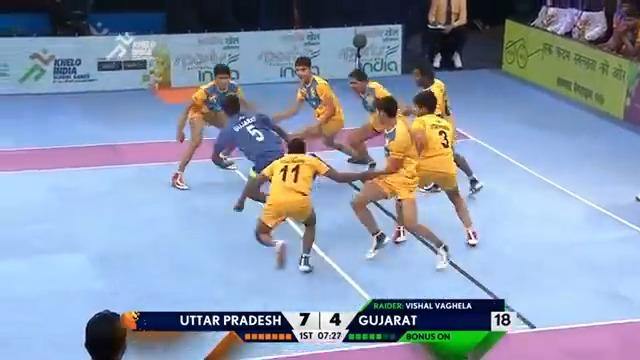Player: (253, 137, 396, 273), (348, 95, 450, 270), (391, 90, 480, 248), (270, 55, 375, 165), (170, 62, 251, 190), (409, 63, 483, 195), (345, 67, 410, 166)
Raider: (211, 92, 289, 212)
